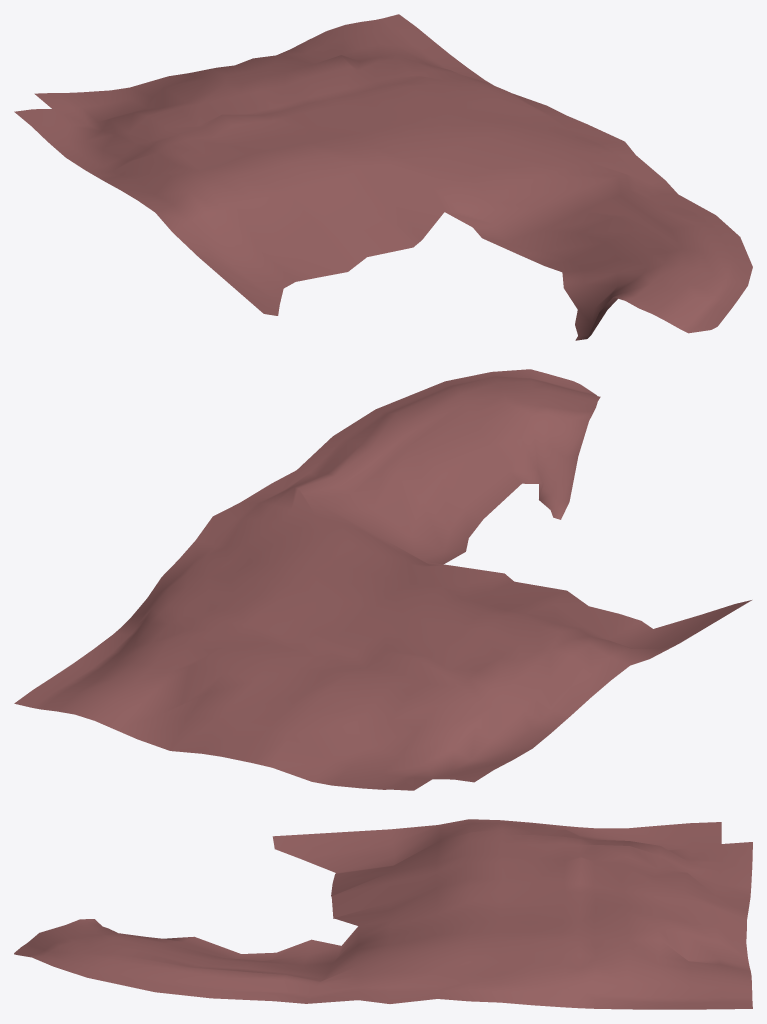
File: soupset.fbx
The picture shows the model from 3 angles, top to bottom: view 1: azimuth 30°, elevation 25°; view 2: azimuth 150°, elevation 25°; view 3: azimuth 270°, elevation 25°; orthographic projection. The views are drawn at different scales.
Parts seen in each view (by area): view 1: terrain_beach_round_uv_01; view 2: terrain_beach_round_uv_01; view 3: terrain_beach_round_uv_01.
Boxes of the visible parts, box(x1,y1,x2,y2) form: terrain_beach_round_uv_01: box(14, 14, 752, 340); terrain_beach_round_uv_01: box(14, 369, 751, 790); terrain_beach_round_uv_01: box(14, 819, 752, 1009).
Size of the model in its own units: 261 by 44.69 by 440.
